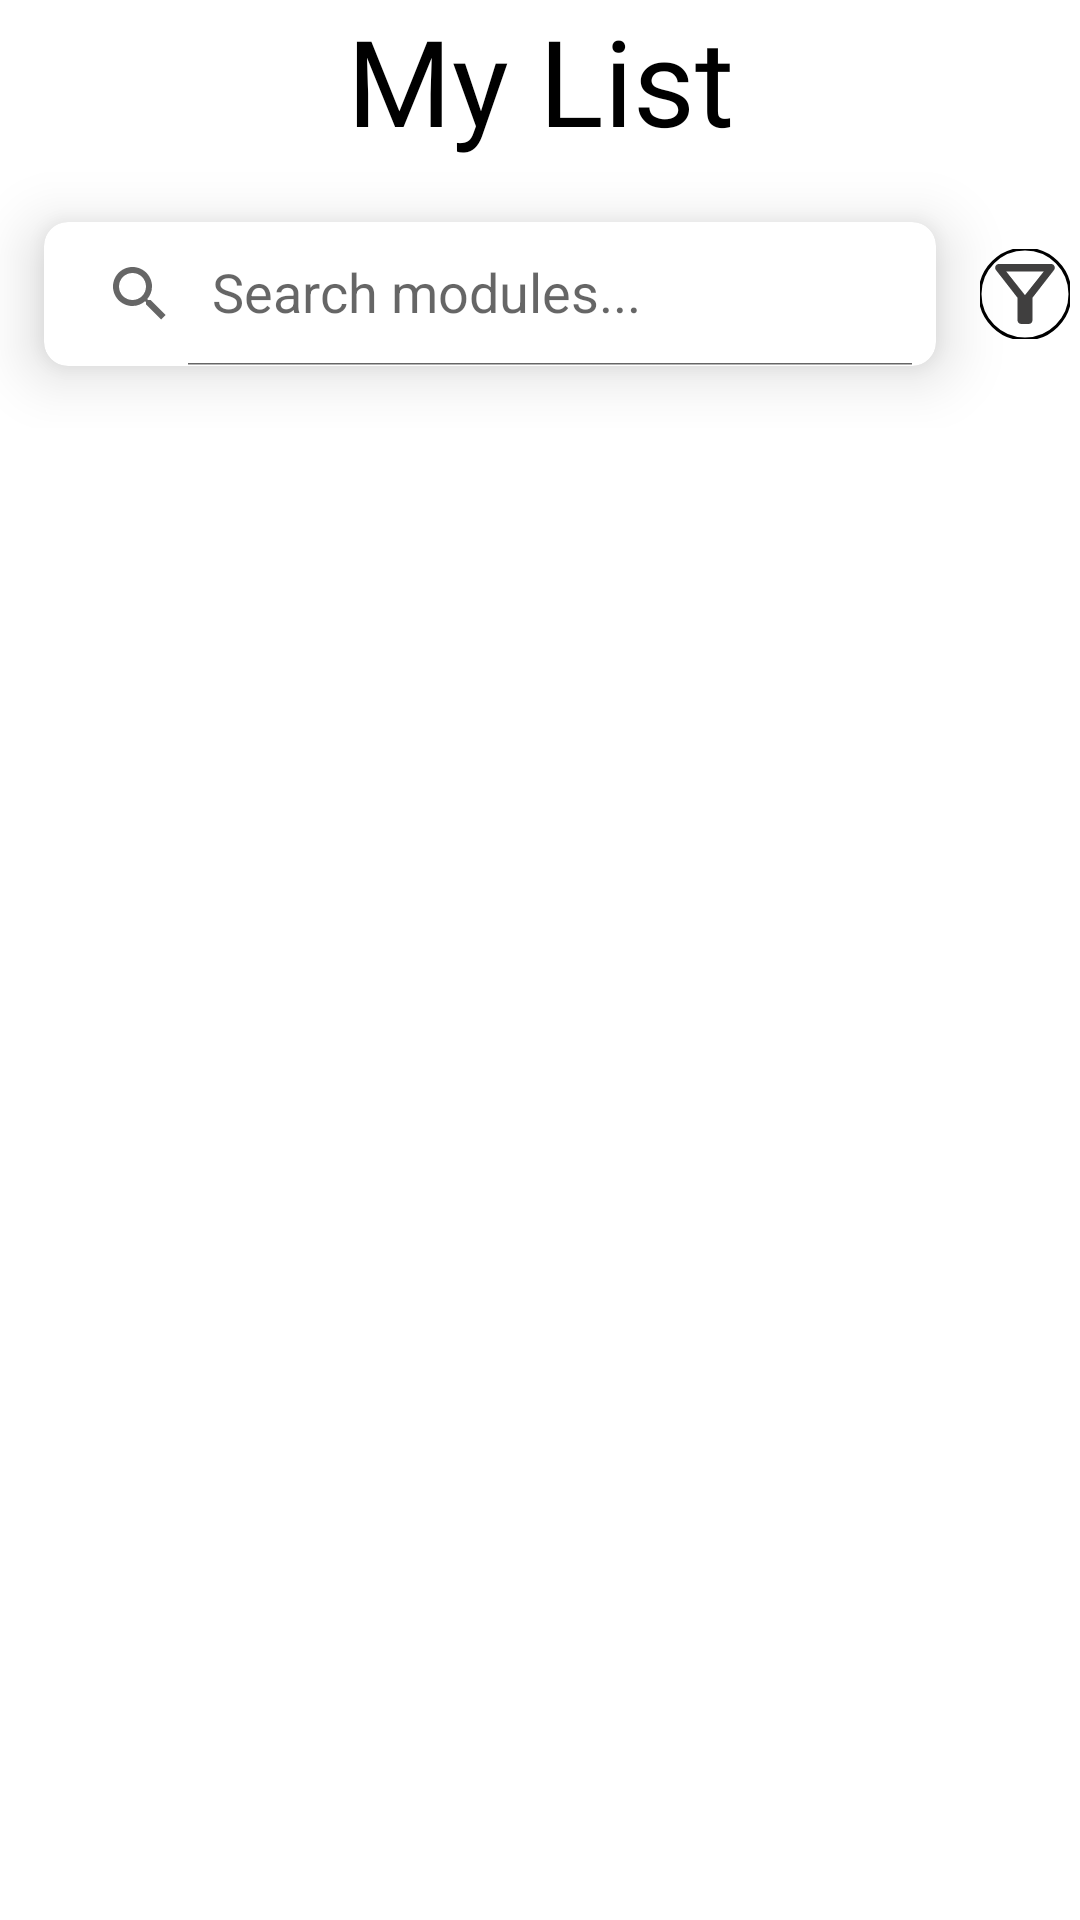

Icons on this 1080 × 1920 Android screen, each with the point to tap as (x=x, y=y):
filter: (x=1025, y=294)
